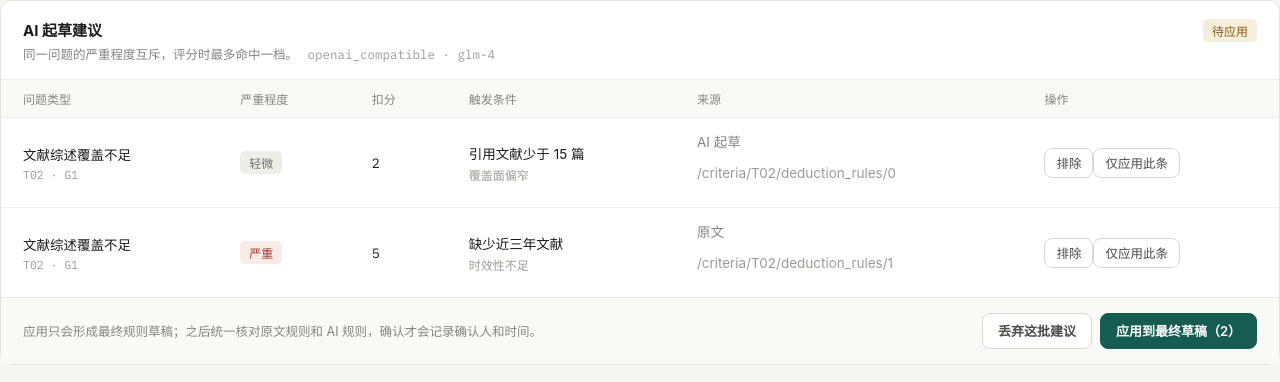
Test: AI 起草选择面板 › 排除可以撤销——点错一下不该逼用户重新生成
Step 1. Click the button with test id "exclude" in the row of "轻微" → (1069, 163), box [1044,148,1093,178]
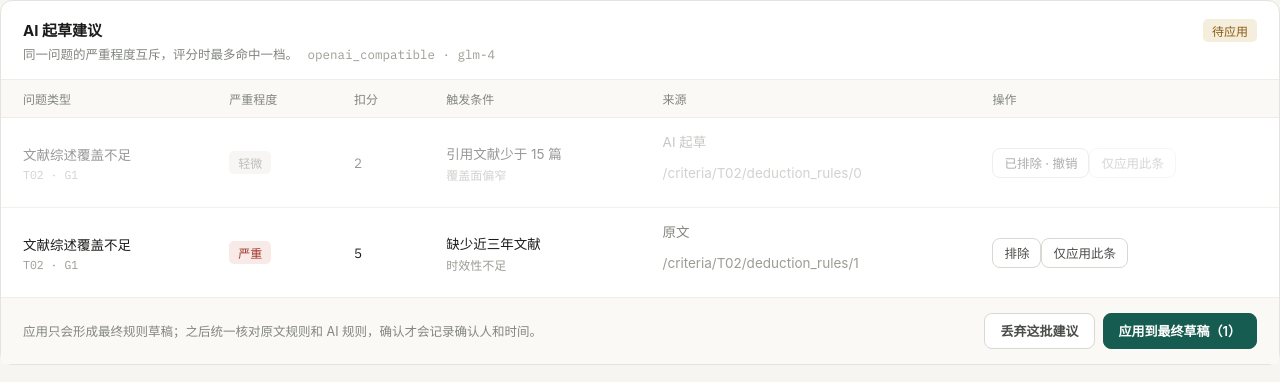
Step 2. Click the button with test id "exclude" showing "已排除 · 撤销" → (1041, 163), box [992,148,1089,178]
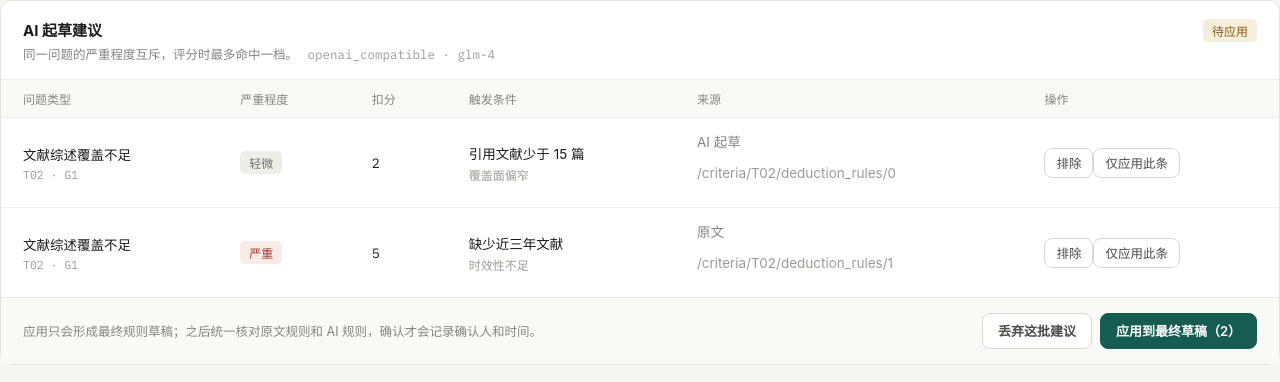
Expected: the button with test id "apply" shows "2", [1100,313,1257,349]
